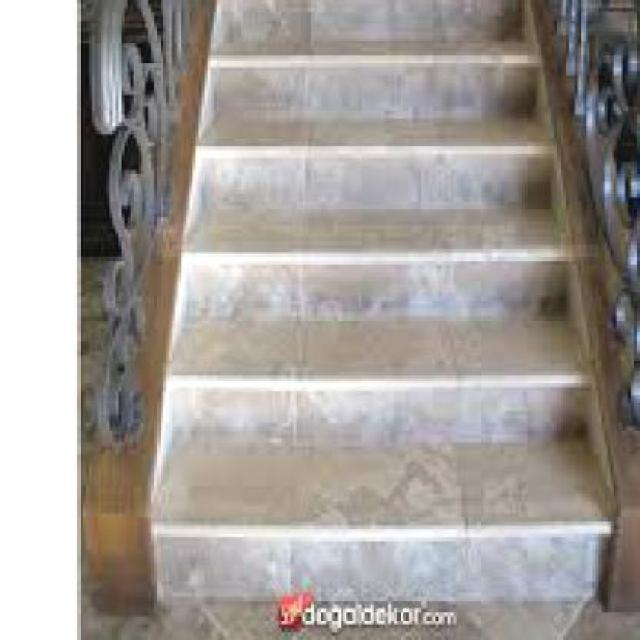stair: (101, 0, 628, 589)
